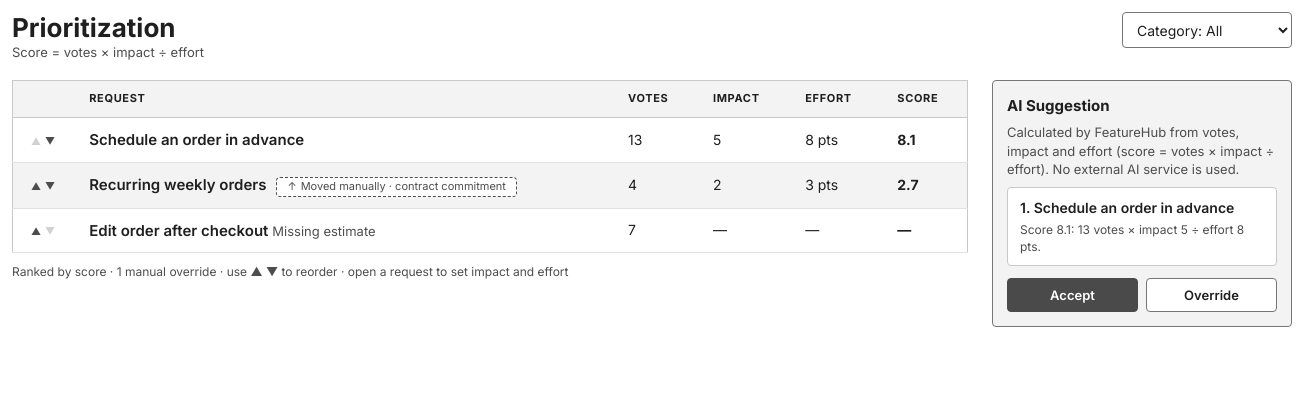
Test: Prioritization › accepts the suggestion
Click the button "Accept".
click(1072, 295)  # box [1007, 278, 1138, 312]
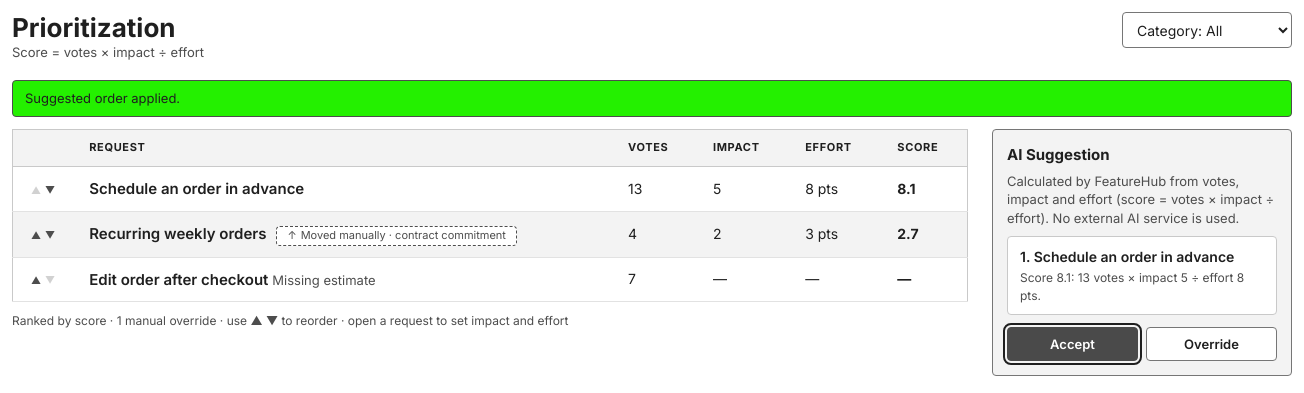
Expected: the text "Suggested order applied." is shown, [12, 80, 1292, 117]
